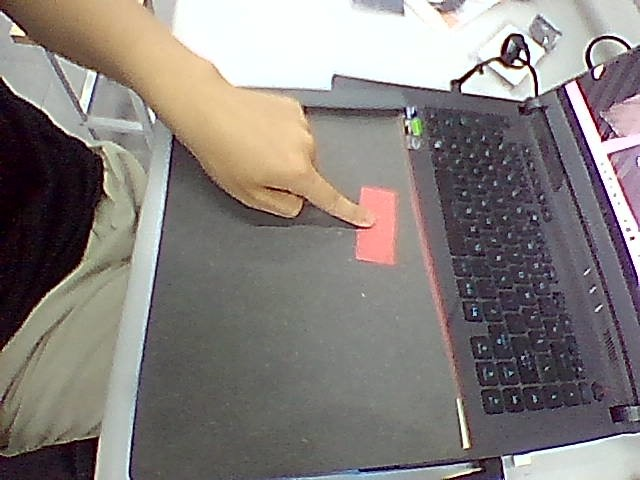card: (356, 186, 396, 265)
